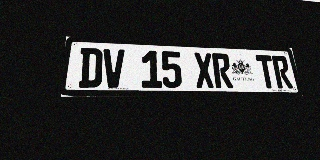1: (141, 50, 162, 88)
5: (161, 51, 183, 88)
D: (78, 48, 103, 88)
R: (212, 53, 233, 88), (271, 55, 293, 88)
T: (255, 55, 277, 88)
V: (102, 49, 125, 88)
X: (193, 52, 215, 88)
